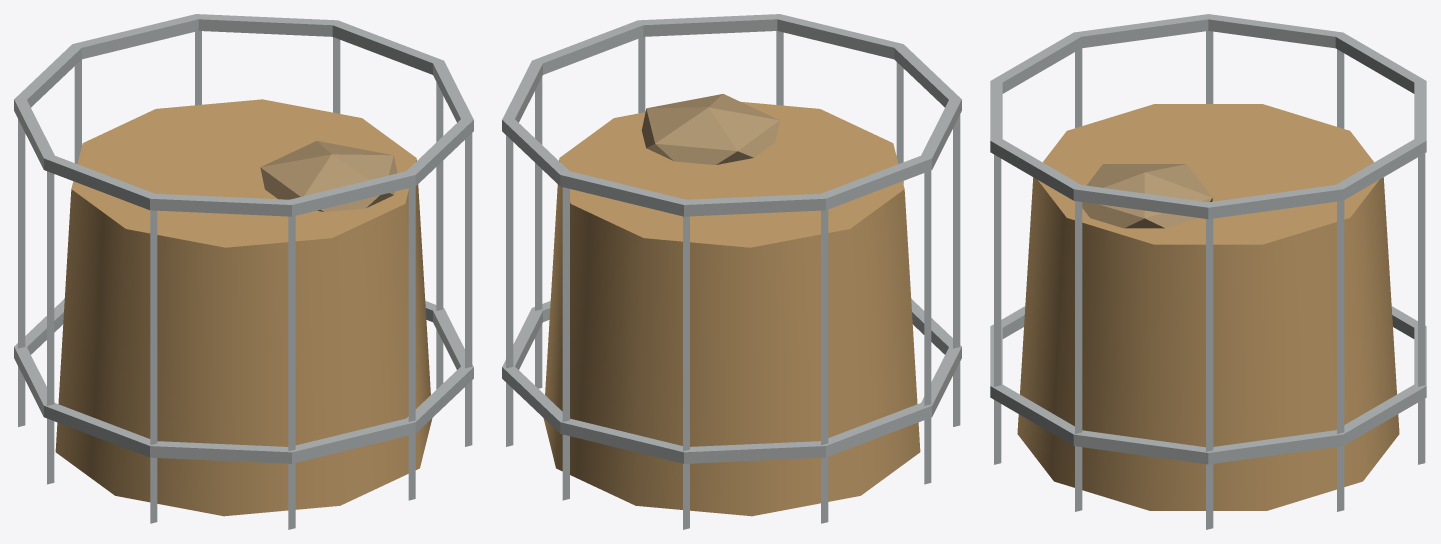
Rendered from hay_feeder.glb.
3 views of the same model, side by side, from view 1: azimuth 30°, elevation 25°; view 2: azimuth 150°, elevation 25°; view 3: azimuth 270°, elevation 25° (orthographic).
Visible parts, largest first — view 1: hay_feeder; view 2: hay_feeder; view 3: hay_feeder.
Part boxes in pixels (box(x1,y1,x2,y2)): hay_feeder: box(14, 14, 473, 529); hay_feeder: box(502, 14, 961, 529); hay_feeder: box(990, 14, 1426, 529).
Bounding box in the file's own units: 1.44 × 1.12 × 1.37.
1 material, 1 textured.
